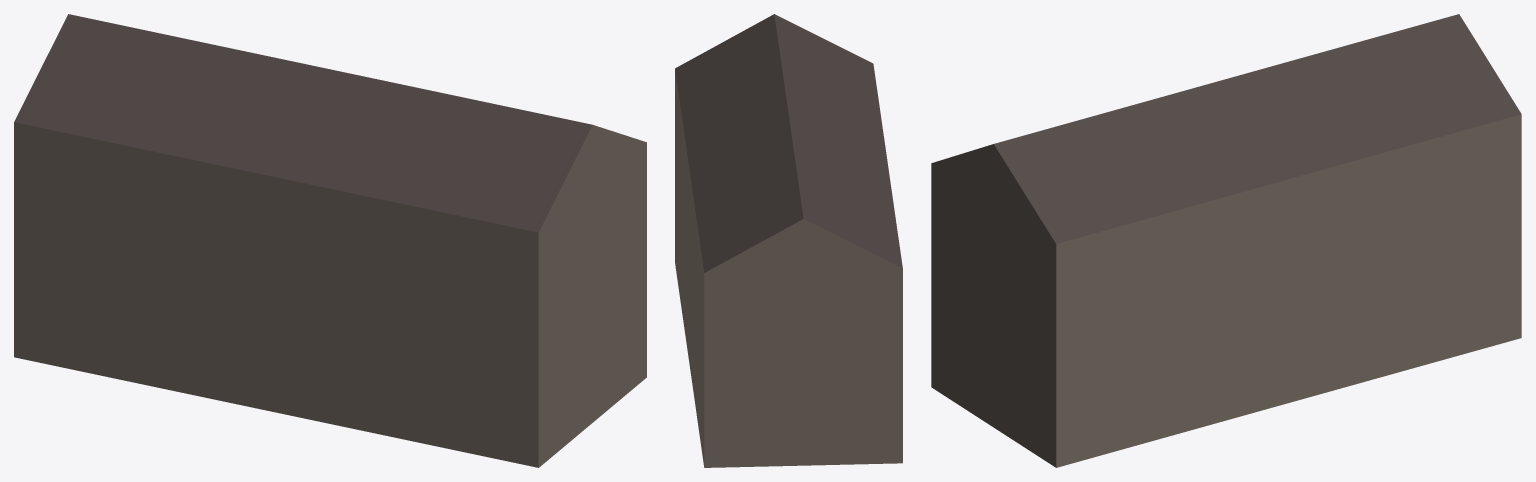
3 renders of one model, left to right at view 1: azimuth 30°, elevation 25°; view 2: azimuth 150°, elevation 25°; view 3: azimuth 270°, elevation 25°, orthographic. The views are drawn at different scales.
Parts seen in each view (by area): view 1: HP-w178737599; view 2: HP-w178737599; view 3: HP-w178737599.
Boxes of the visible parts, <box> form: HP-w178737599: <box>14,14,646,467</box>; HP-w178737599: <box>675,14,902,467</box>; HP-w178737599: <box>931,14,1521,467</box>.
Size of the model in its own units: 12.12 by 7.6 by 14.35.
